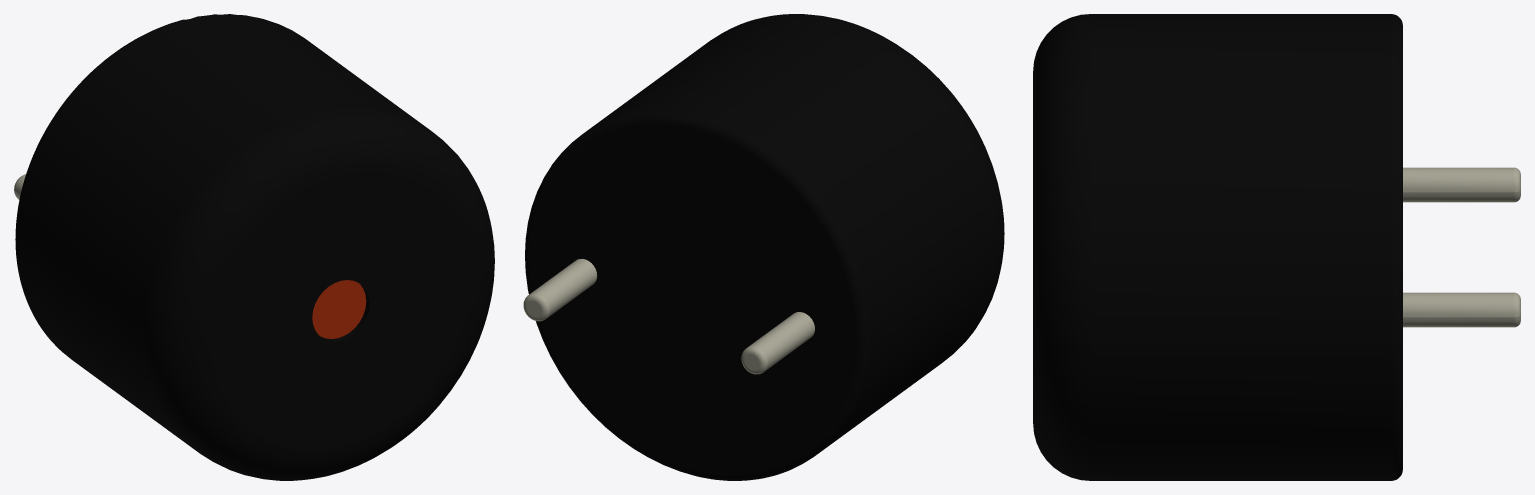
Rendered from buzzer_12x9.5rm7.6.glb.
The picture shows the model from 3 angles, left to right: view 1: azimuth 30°, elevation 25°; view 2: azimuth 150°, elevation 25°; view 3: azimuth 270°, elevation 25°; orthographic projection. The views are drawn at different scales.
Visible parts, largest first — view 1: Buzzer_12x9.5RM7.6; view 2: Buzzer_12x9.5RM7.6; view 3: Buzzer_12x9.5RM7.6.
Part boxes in pixels (x1=…): Buzzer_12x9.5RM7.6: x1=14, y1=14, x2=494, y2=480; Buzzer_12x9.5RM7.6: x1=523, y1=14, x2=1004, y2=480; Buzzer_12x9.5RM7.6: x1=1033, y1=14, x2=1520, y2=480.
Bounding box in the file's own units: 12 × 12 × 12.53.
